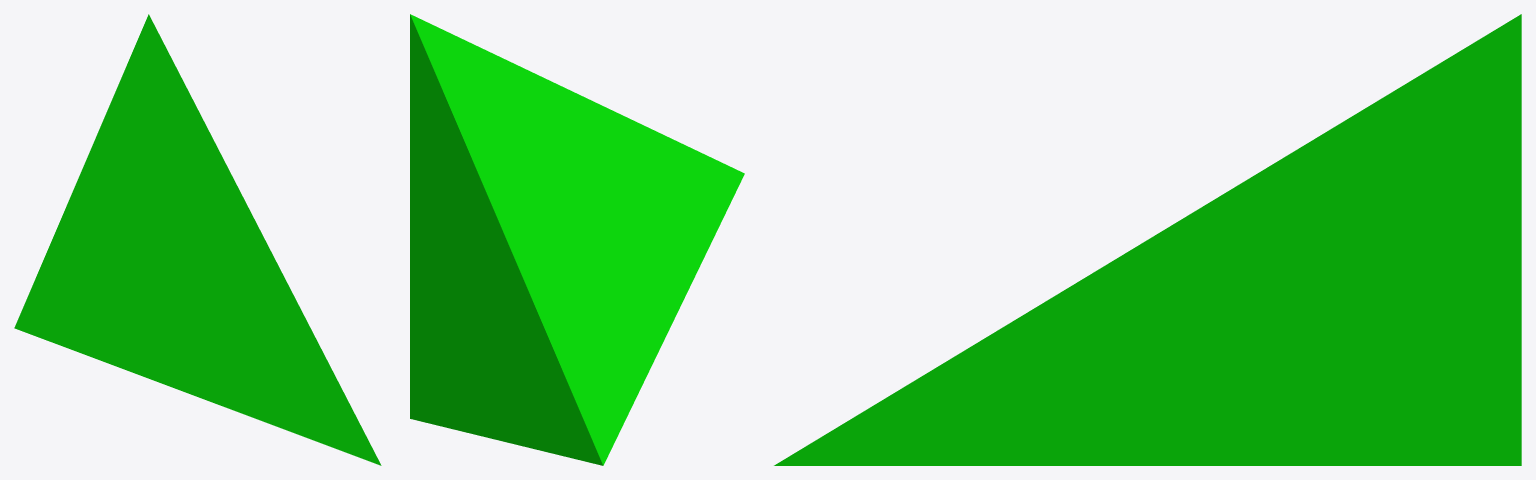
File: fbx_tetra_lh74.fbx
The picture shows the model from 3 angles, left to right: view 1: azimuth 30°, elevation 25°; view 2: azimuth 150°, elevation 25°; view 3: azimuth 270°, elevation 25°; orthographic projection. The views are drawn at different scales.
Visible parts, largest first — view 1: Cube; view 2: Cube; view 3: Cube.
Part boxes in pixels (box(x1,y1,x2,y2)): Cube: box(14, 14, 381, 465); Cube: box(410, 14, 744, 465); Cube: box(774, 14, 1521, 465).
Bounding box in the file's own units: 10 × 20 × 30.
